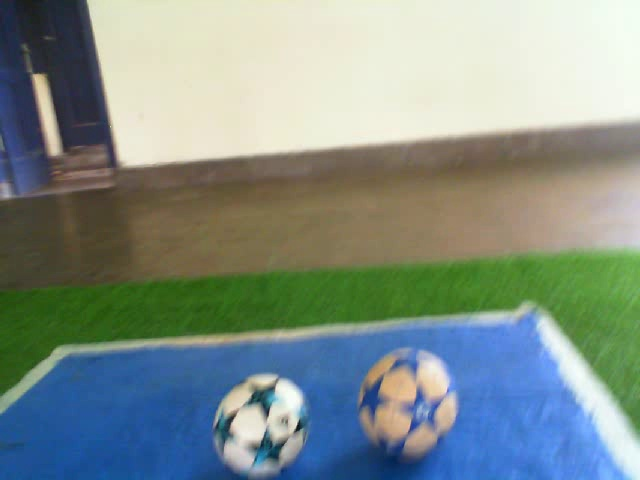ball: (354, 343, 461, 467), (208, 370, 314, 479)
